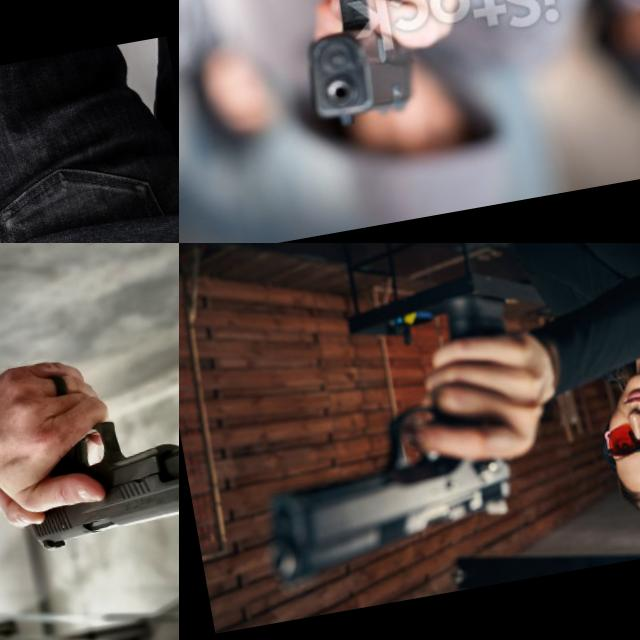handgun: (241, 385, 531, 600), (3, 396, 179, 557), (286, 0, 424, 130), (0, 132, 90, 243)
